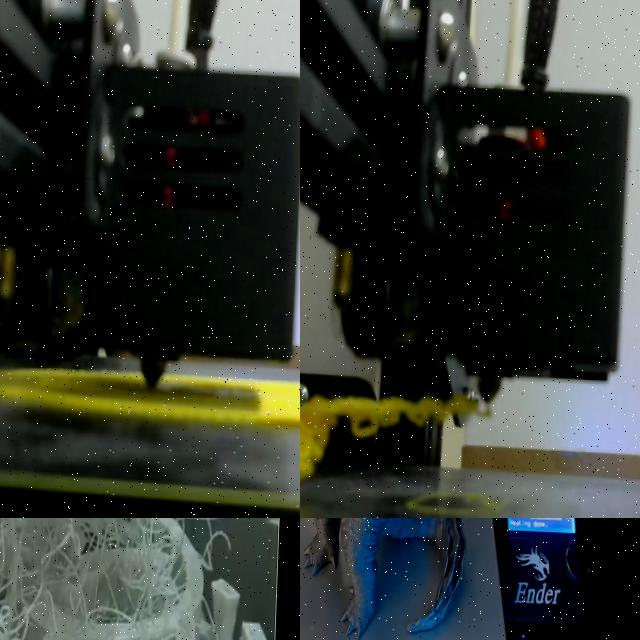spaghetti: (0, 518, 142, 640), (300, 394, 487, 484)
